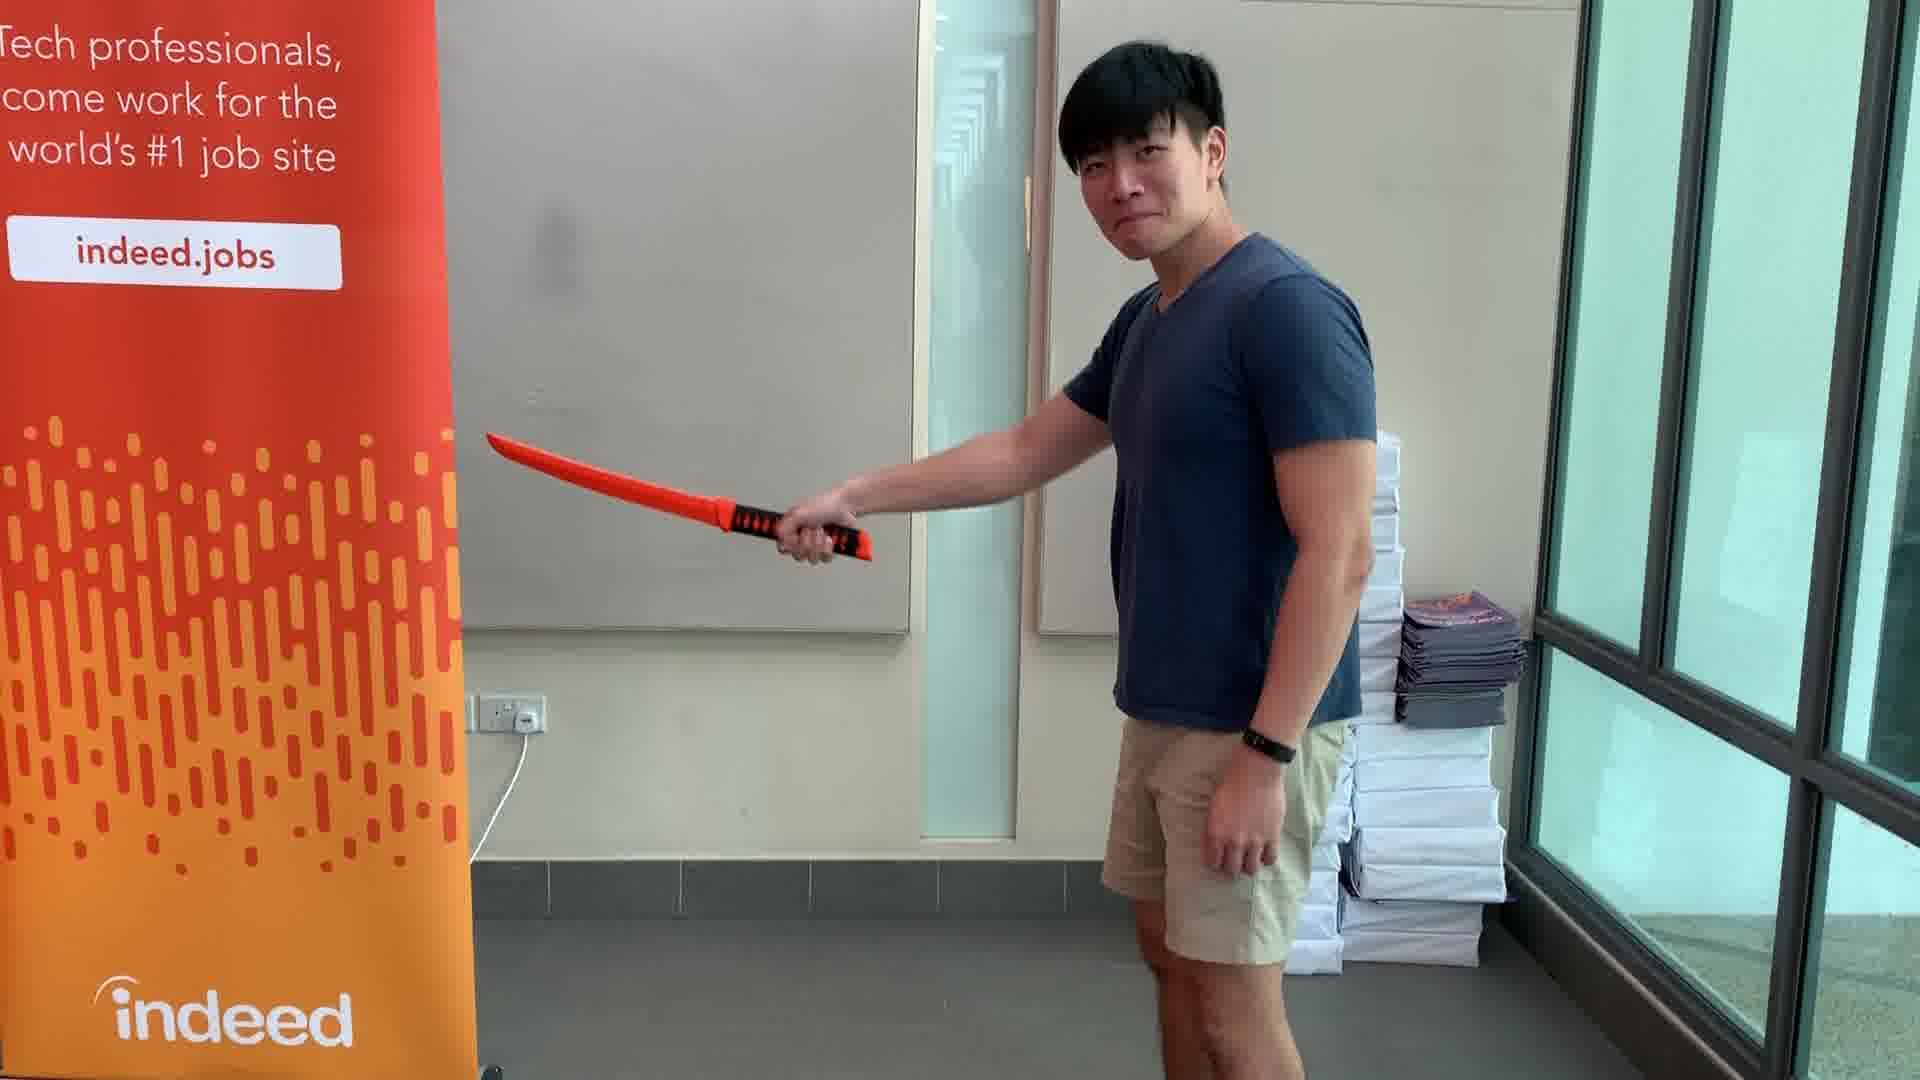knife: (475, 425, 881, 564)
